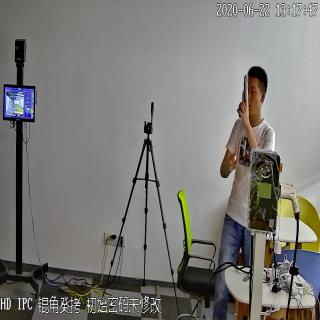gun: (236, 70, 249, 118)
